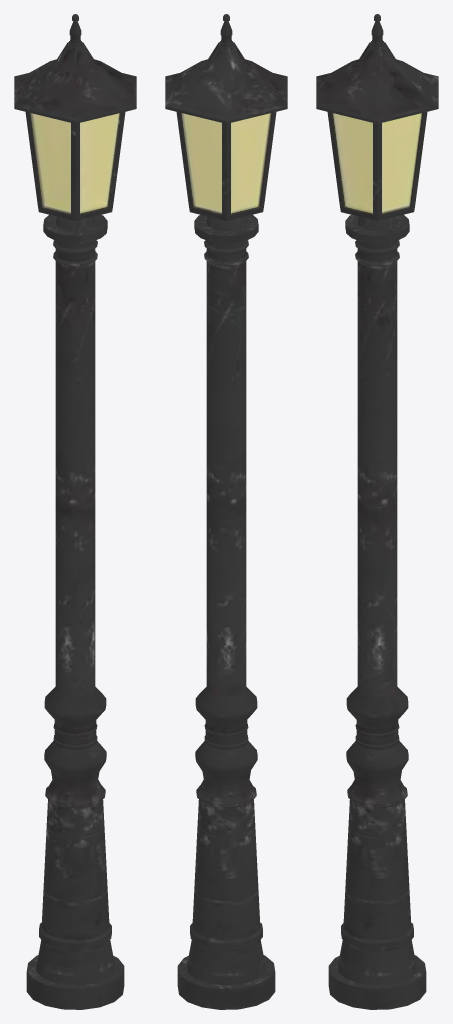
The model's file is streetlight.glb.
The picture shows the model from 3 angles, left to right: view 1: azimuth 30°, elevation 25°; view 2: azimuth 150°, elevation 25°; view 3: azimuth 330°, elevation 25°; orthographic projection.
Visible parts, largest first — view 1: StreetLight; view 2: StreetLight; view 3: StreetLight.
Part boxes in pixels (left/top/right/bottom): StreetLight: left=14, top=14, right=136, bottom=1009; StreetLight: left=165, top=14, right=287, bottom=1009; StreetLight: left=316, top=14, right=438, bottom=1009.
Size of the model in its own units: 0.7237 by 5.5 by 0.6267.
1 material, 1 textured.
